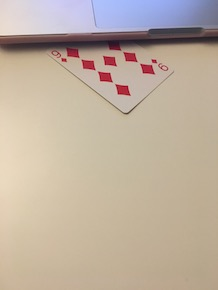NineOfDiamonds: (45, 30, 177, 115)
